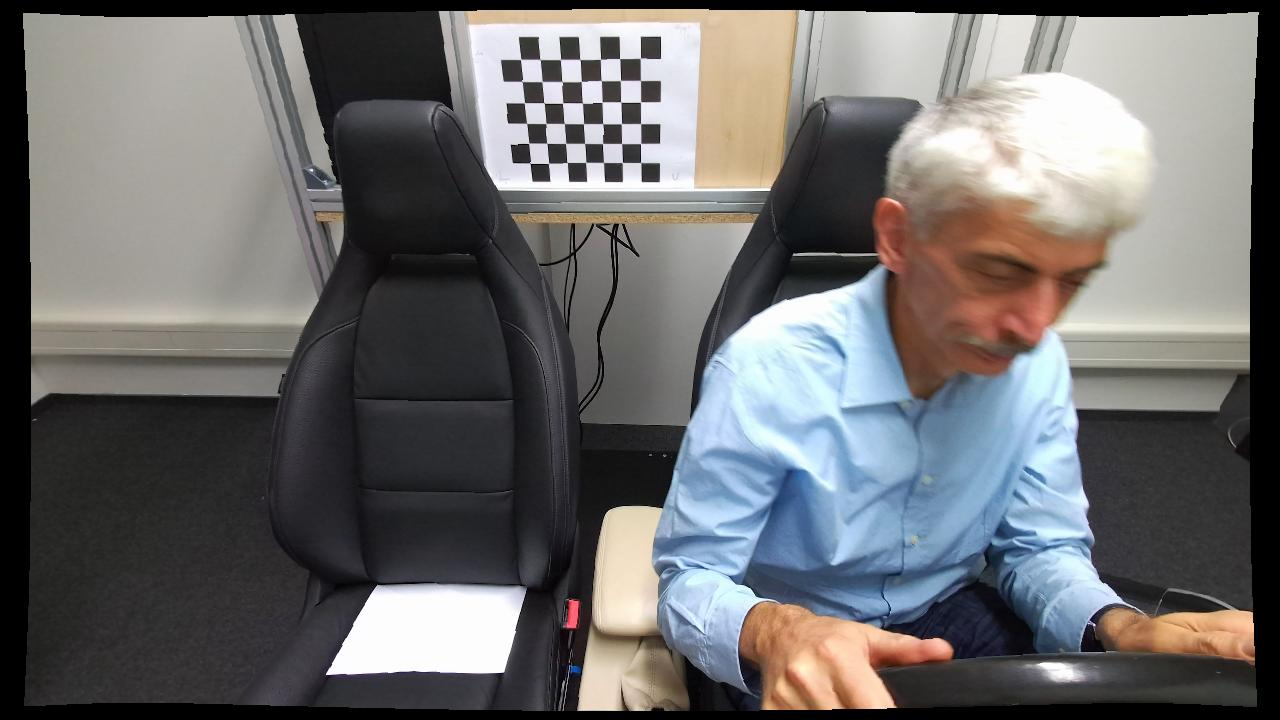Distracted: (654, 67, 1184, 714)
